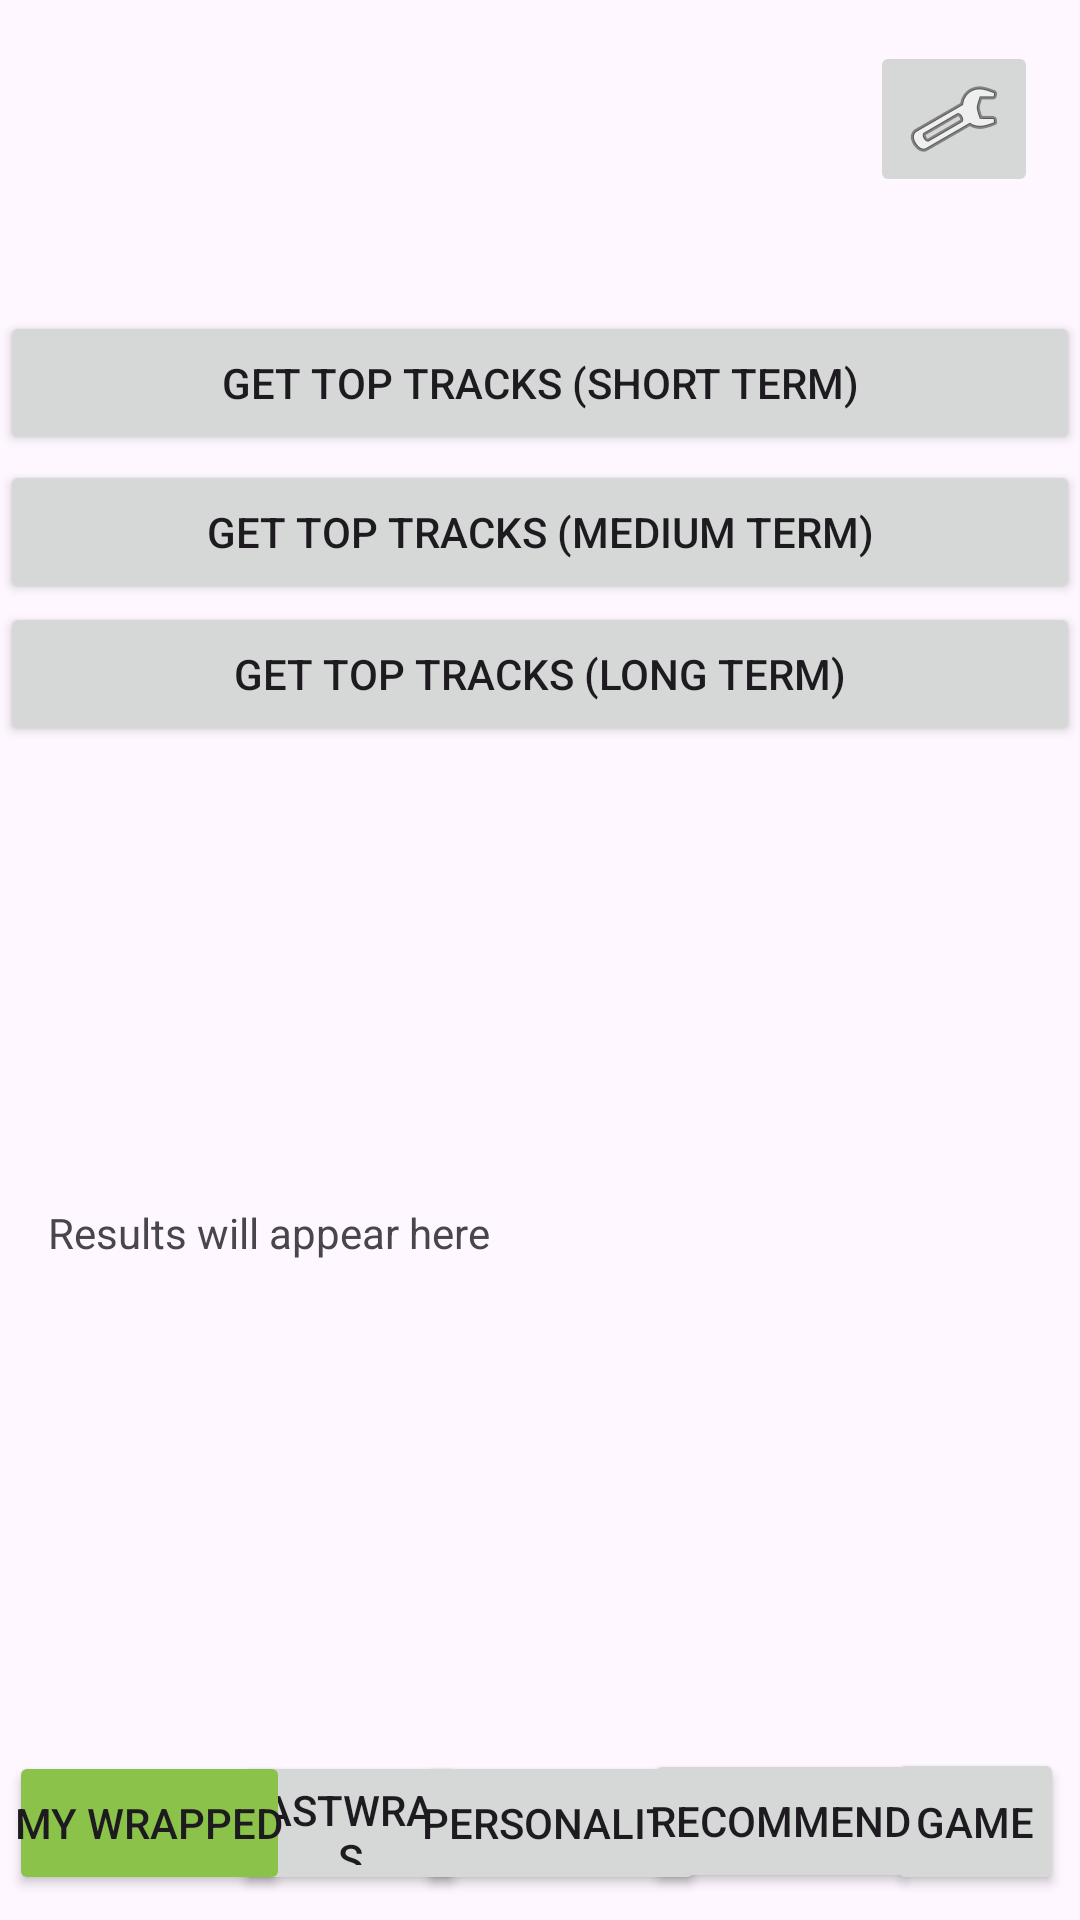

Icon click points for this 1080x1920 phone screenshot, format (x,y):
manage: (954,119)
